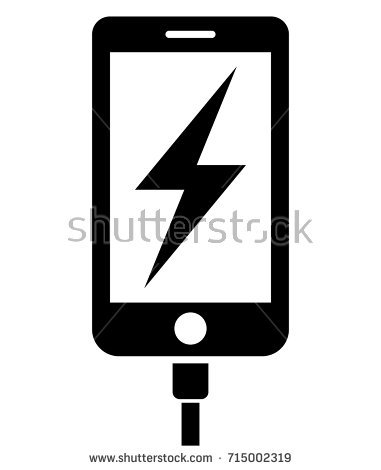charging sign: (62, 4, 307, 372)
